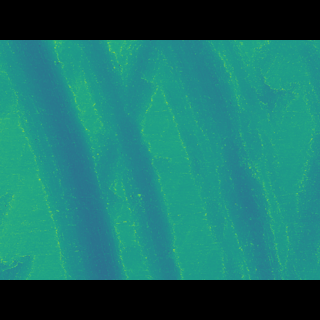Loch: (140, 68, 299, 250), (0, 69, 129, 250), (71, 69, 184, 249)
